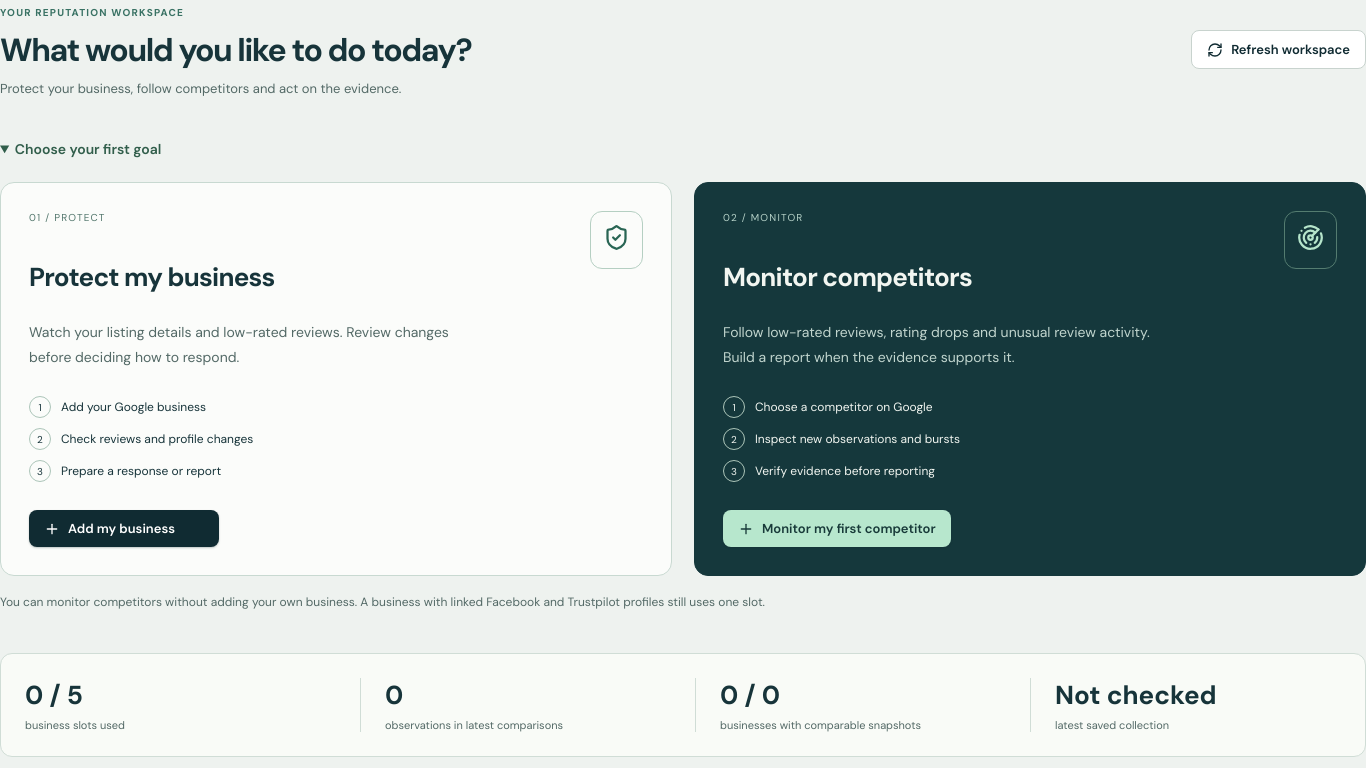
Scenario: goal-based workspace › provides independent protect and competitor paths without forcing business ownership
Expected: the button "Add my business" is shown, [29,510,219,547]
Expected: the text "without adding your own business" is shown, [0,594,765,610]
Click the button "Monitor my first competitor": click(837, 529) [723,510,951,547]
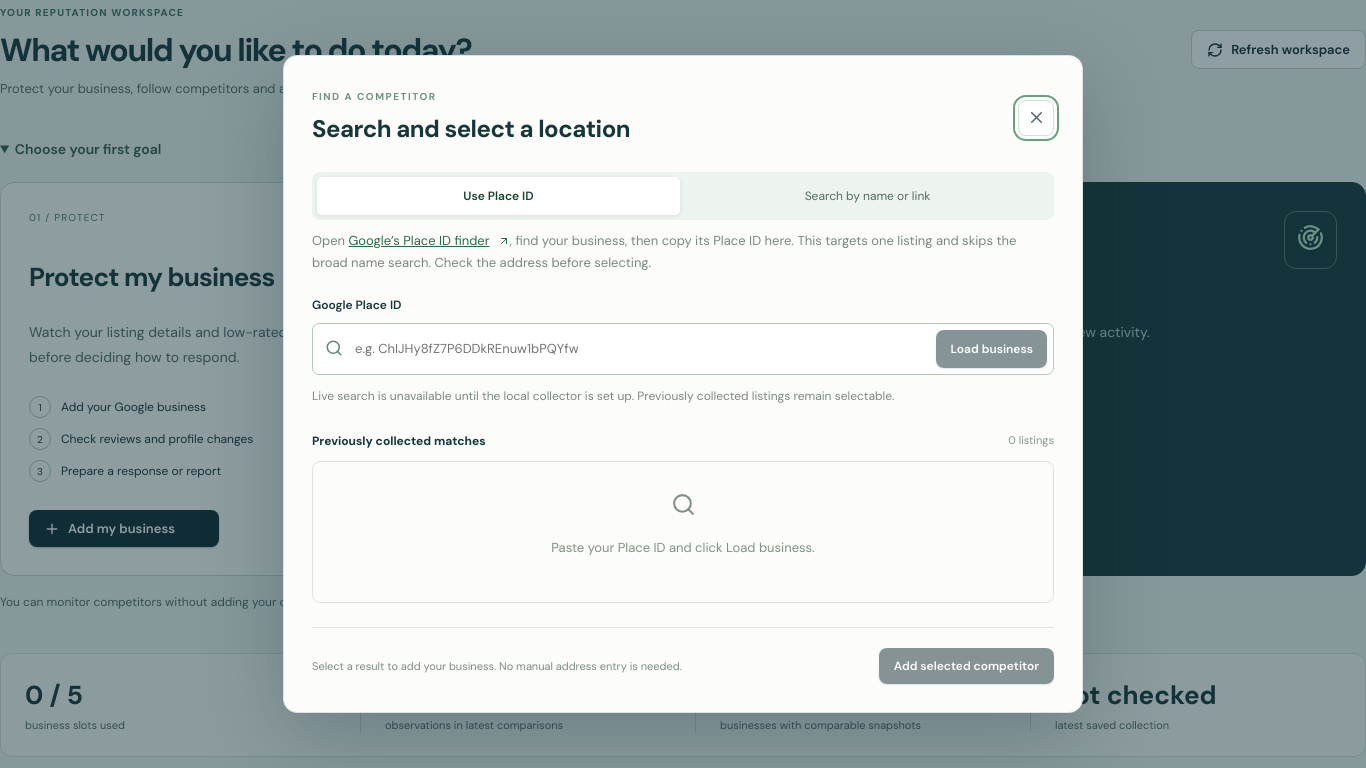
Expected: the dialog is shown, [283,54,1083,714]
